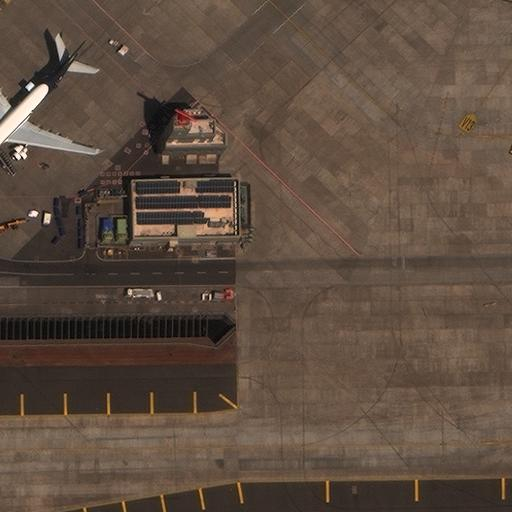Large Civil Transport: (0, 36, 96, 169)
